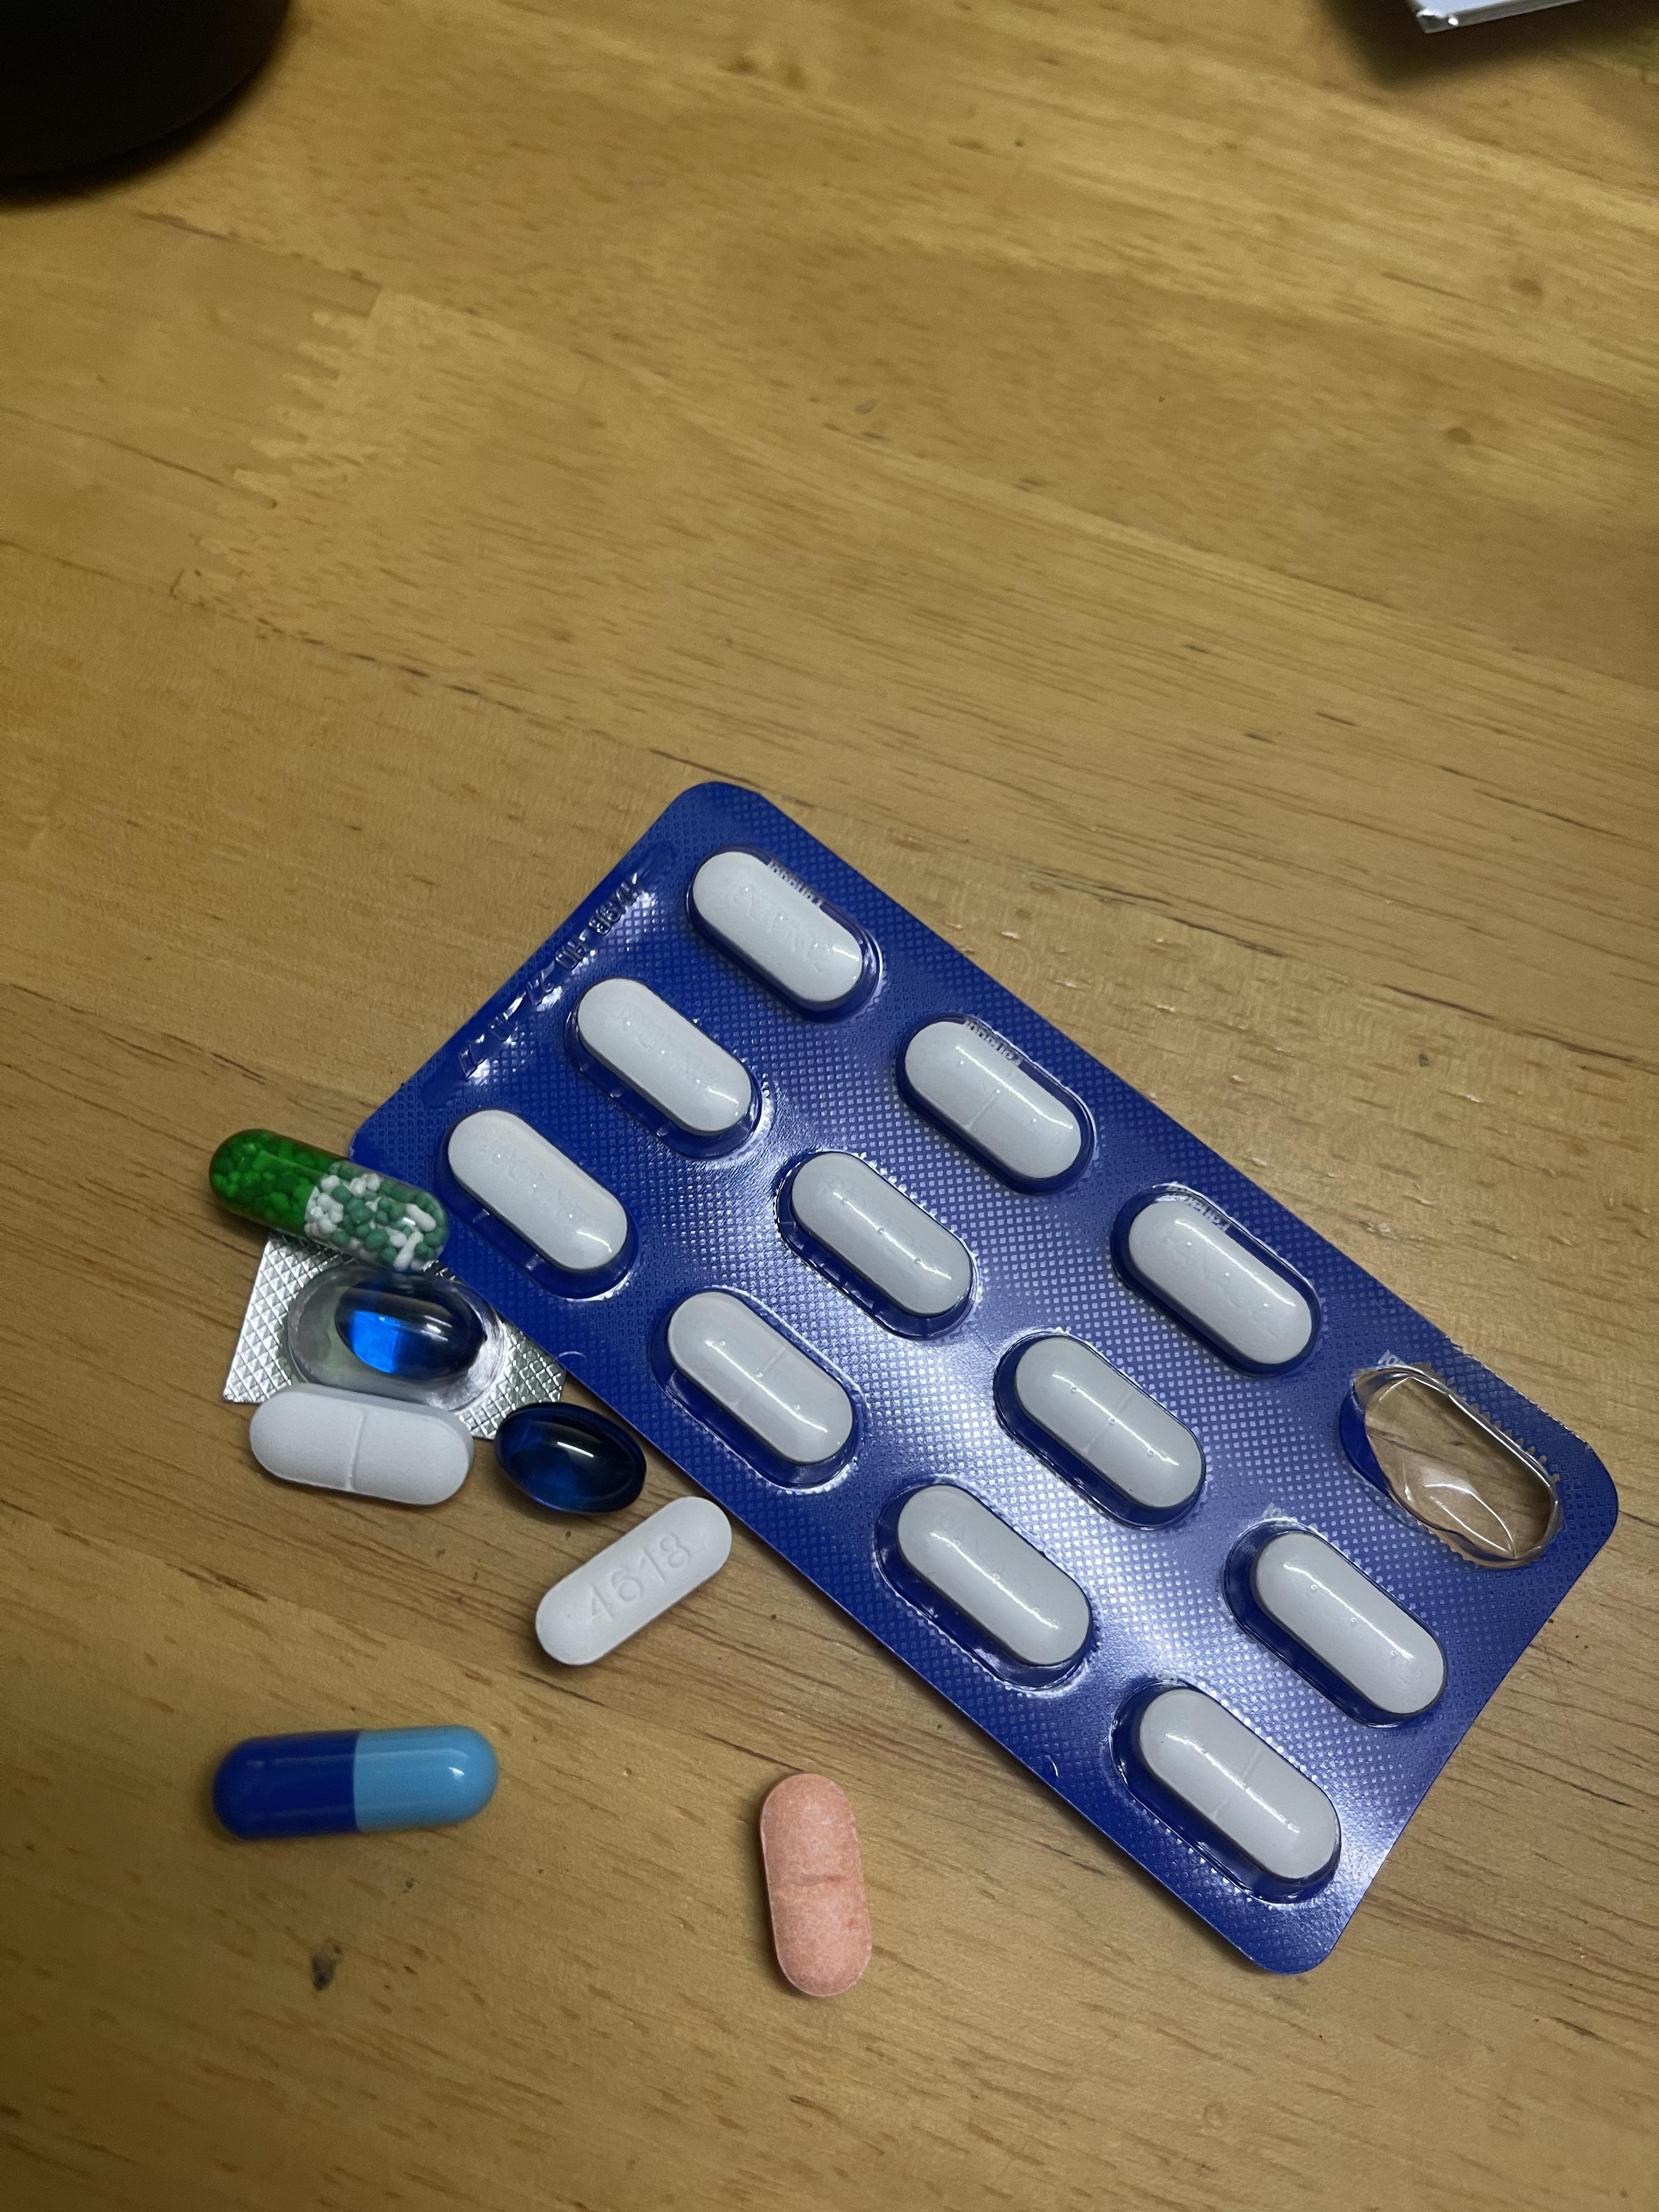Lincomyxin_500mg: (495, 1404, 643, 1515), (340, 1289, 477, 1379)
Loratadine_10mg: (758, 1773, 870, 1996)
Paracetamol_350mg: (1237, 1524, 1446, 1726), (1134, 1686, 1337, 1888), (887, 1482, 1094, 1674), (1114, 1186, 1317, 1378), (662, 1287, 859, 1479), (779, 1150, 978, 1332), (897, 1015, 1094, 1197), (1007, 1338, 1199, 1521), (443, 1108, 633, 1291), (688, 845, 884, 1019), (570, 975, 755, 1146), (247, 1385, 476, 1510)
Paracetamol_500mg: (535, 1498, 734, 1665)
Paracetamol_650mg: (214, 1132, 441, 1268)
pill: (220, 1730, 490, 1836)
